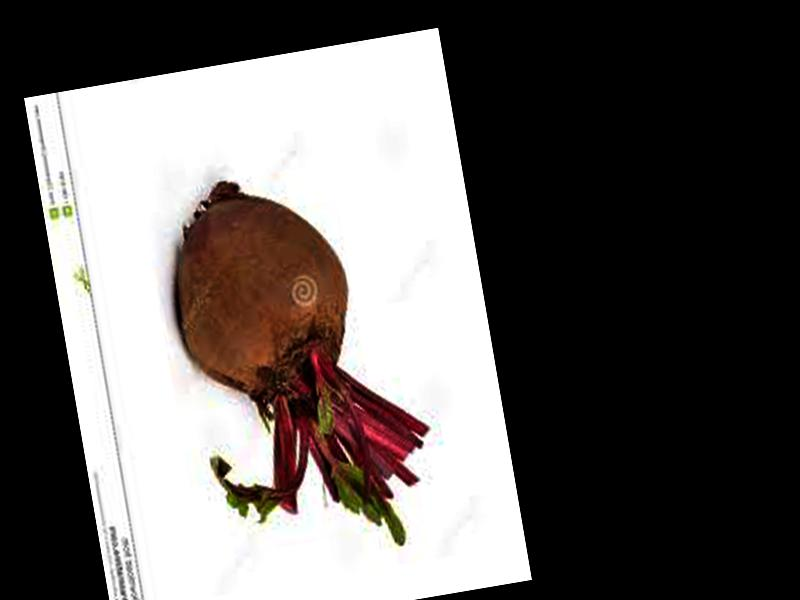Beet: (159, 154, 444, 573)
